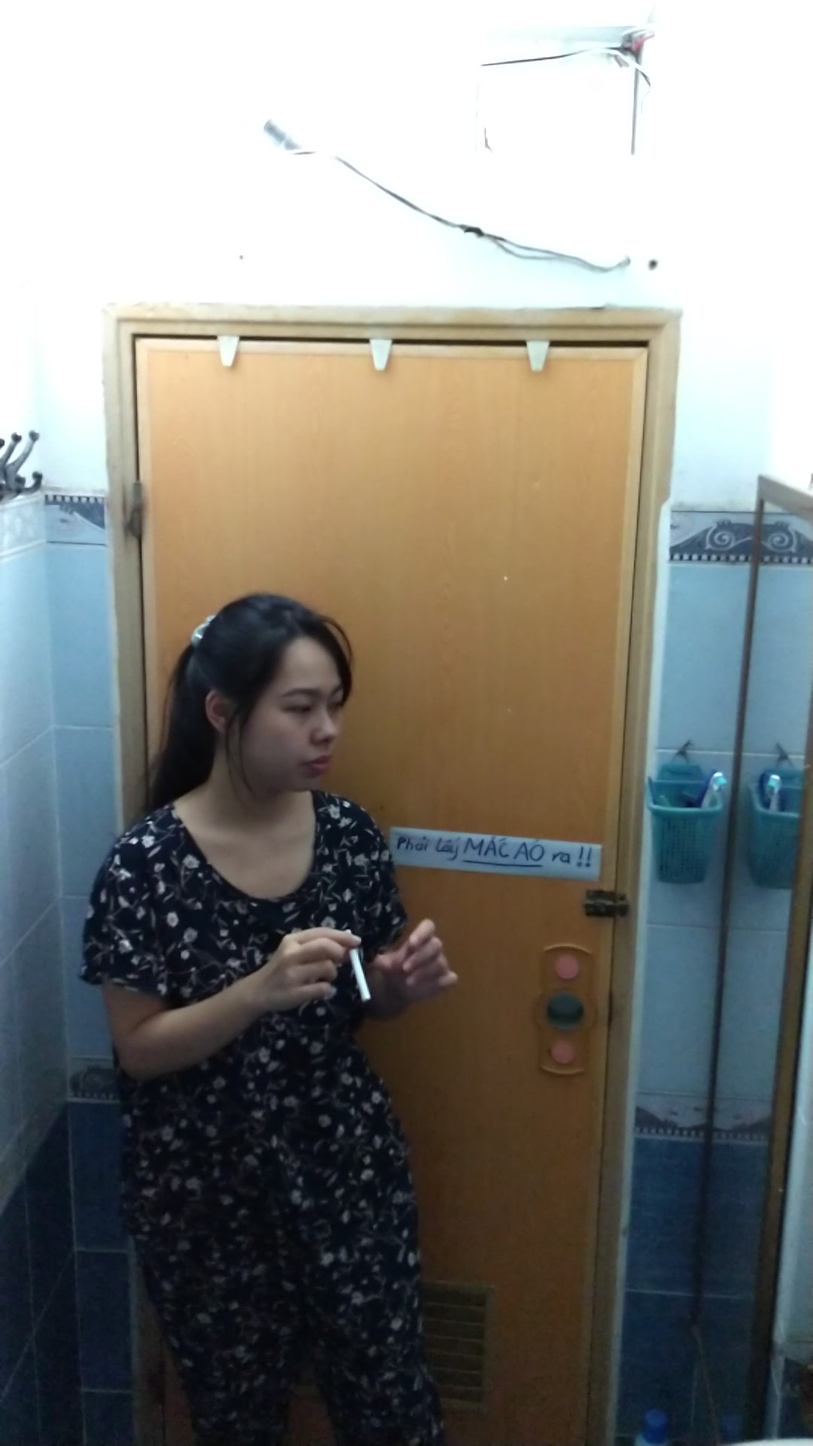cigarette: (340, 948, 376, 1006)
person: (77, 588, 468, 1446)
